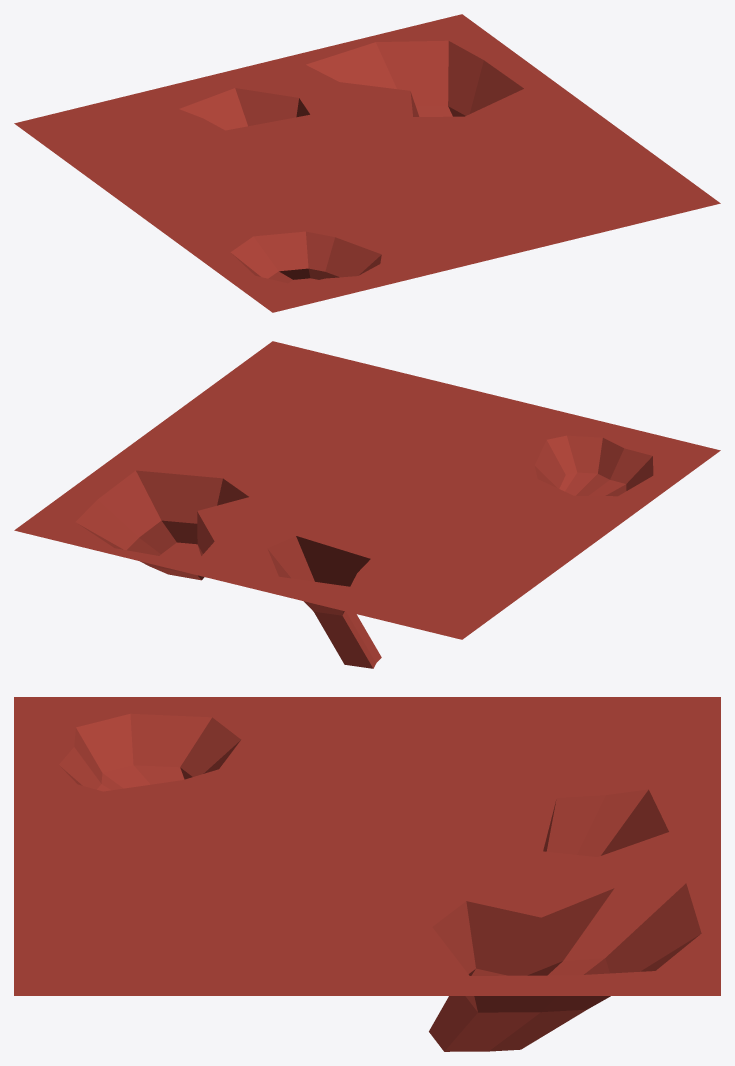
Rendered from Field_!.fbx.
3 renders of one model, top to bottom at view 1: azimuth 30°, elevation 25°; view 2: azimuth 150°, elevation 25°; view 3: azimuth 270°, elevation 25°, orthographic. The views are drawn at different scales.
Parts seen in each view (by area): view 1: Plane.004; view 2: Plane.004; view 3: Plane.004.
Boxes of the visible parts, x1,y1,x2,y2 form: Plane.004: (14, 14, 720, 312); Plane.004: (14, 341, 720, 668); Plane.004: (14, 697, 720, 1051).
Bounding box in the file's own units: 400 × 92.12 × 400.
